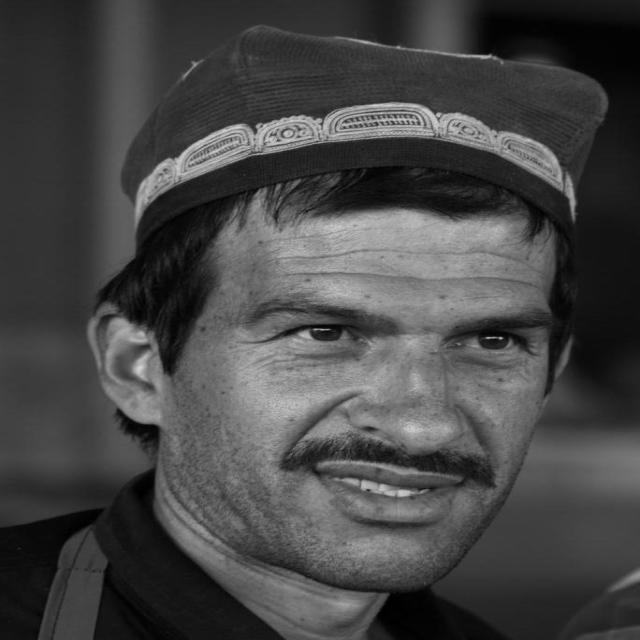no-glass: (274, 324, 532, 360)
